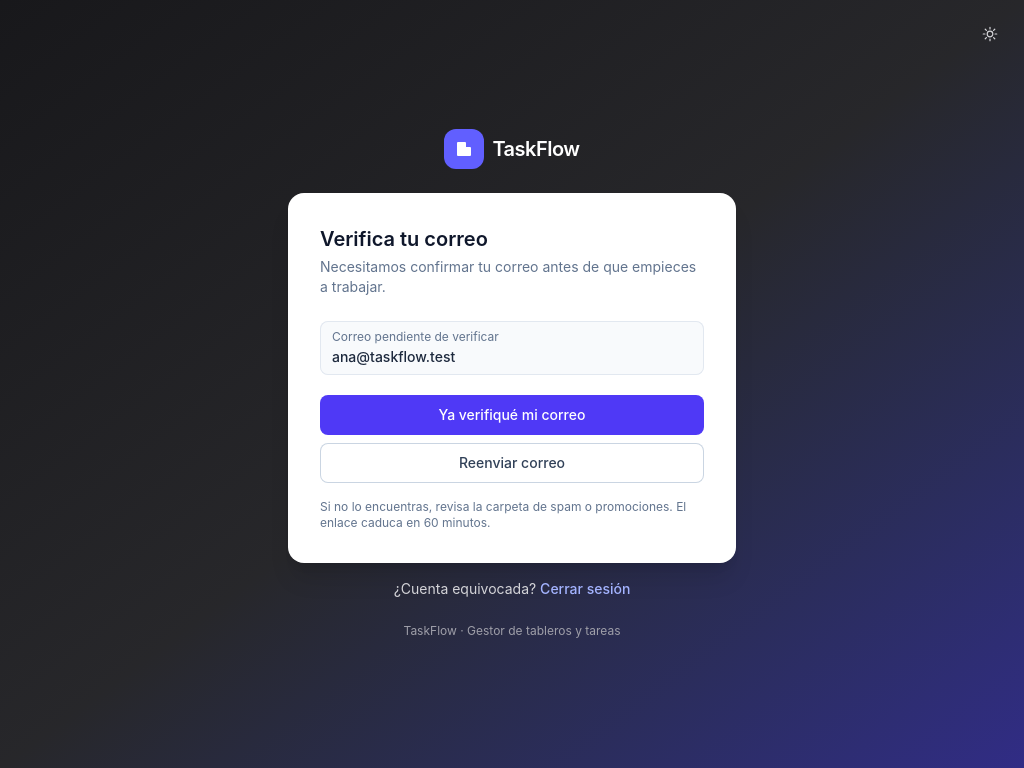
Test case: VerifyEmailPage › shows a message when the email is still not verified
This screenshot has width=1024, height=768.
Click the button "Ya verifiqué mi correo".
click(512, 415)  # box [320,395,704,435]
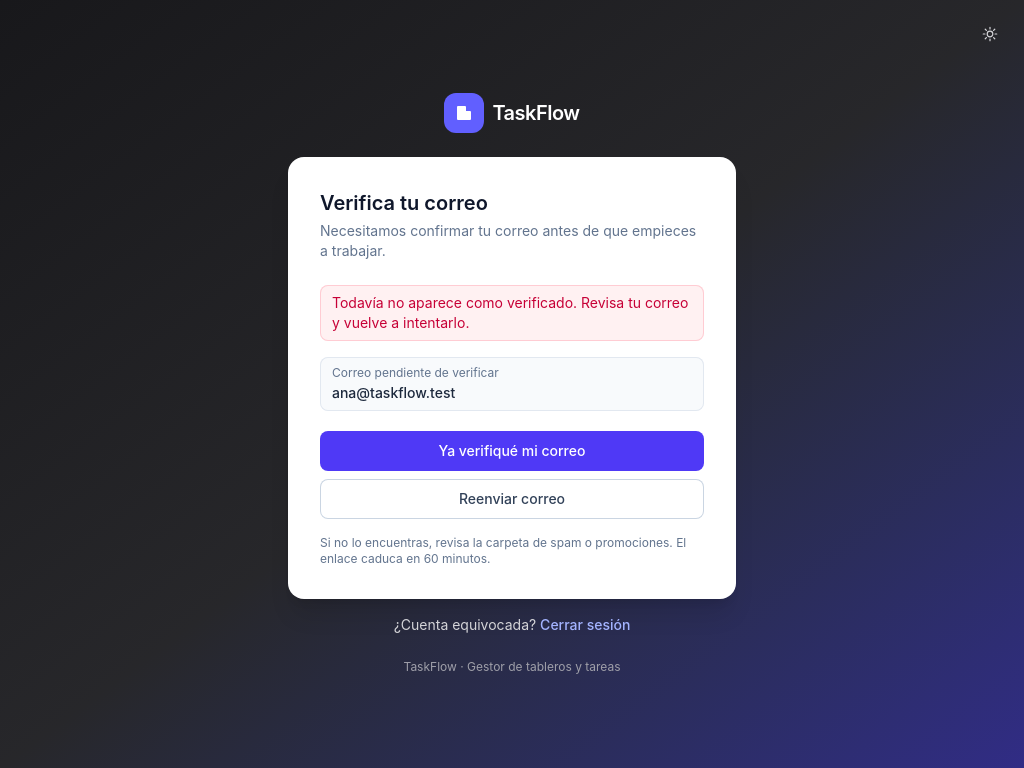
Expected: the message reads "Todavía no aparece como verificado. Revisa tu correo y vuelve a intentarlo.", [332,294,688,331]
